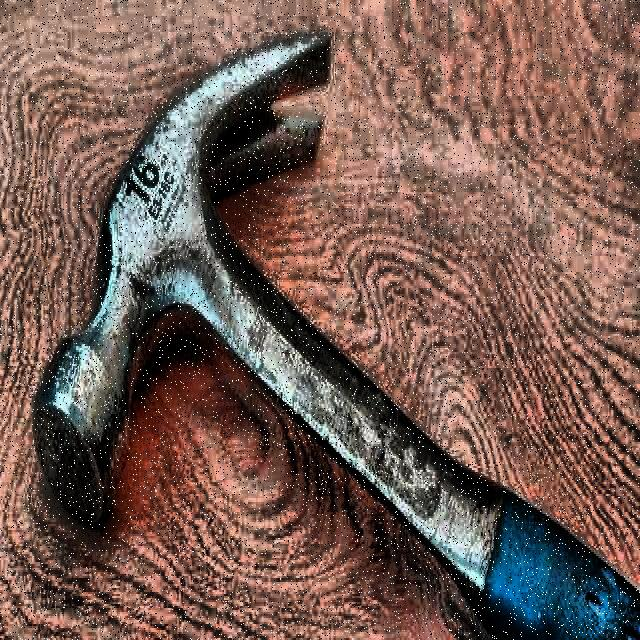hammer: (33, 34, 639, 640)
